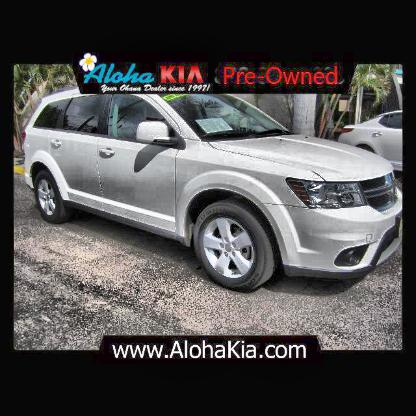Dodge Journey SUV 2012: (23, 89, 404, 296)
